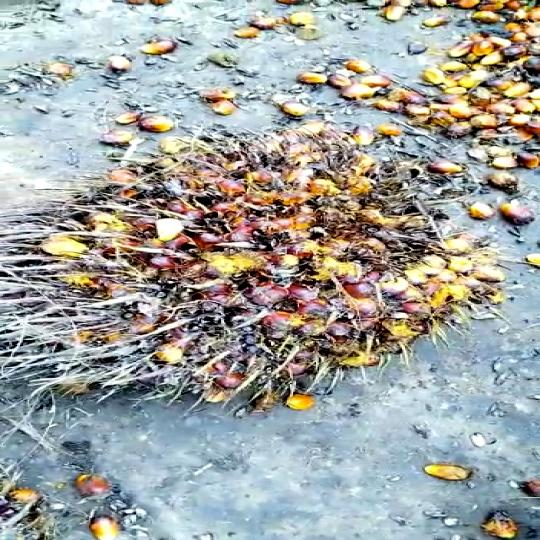terlalu masak: (0, 120, 519, 435)
